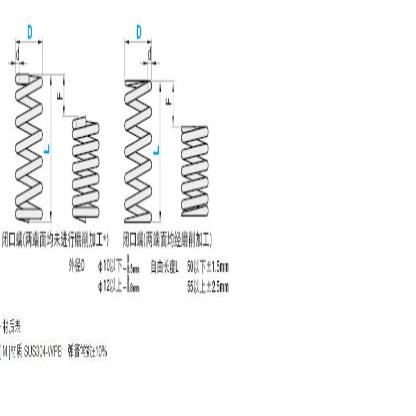FOD: (122, 74, 154, 224), (70, 108, 102, 222), (180, 115, 209, 217)
